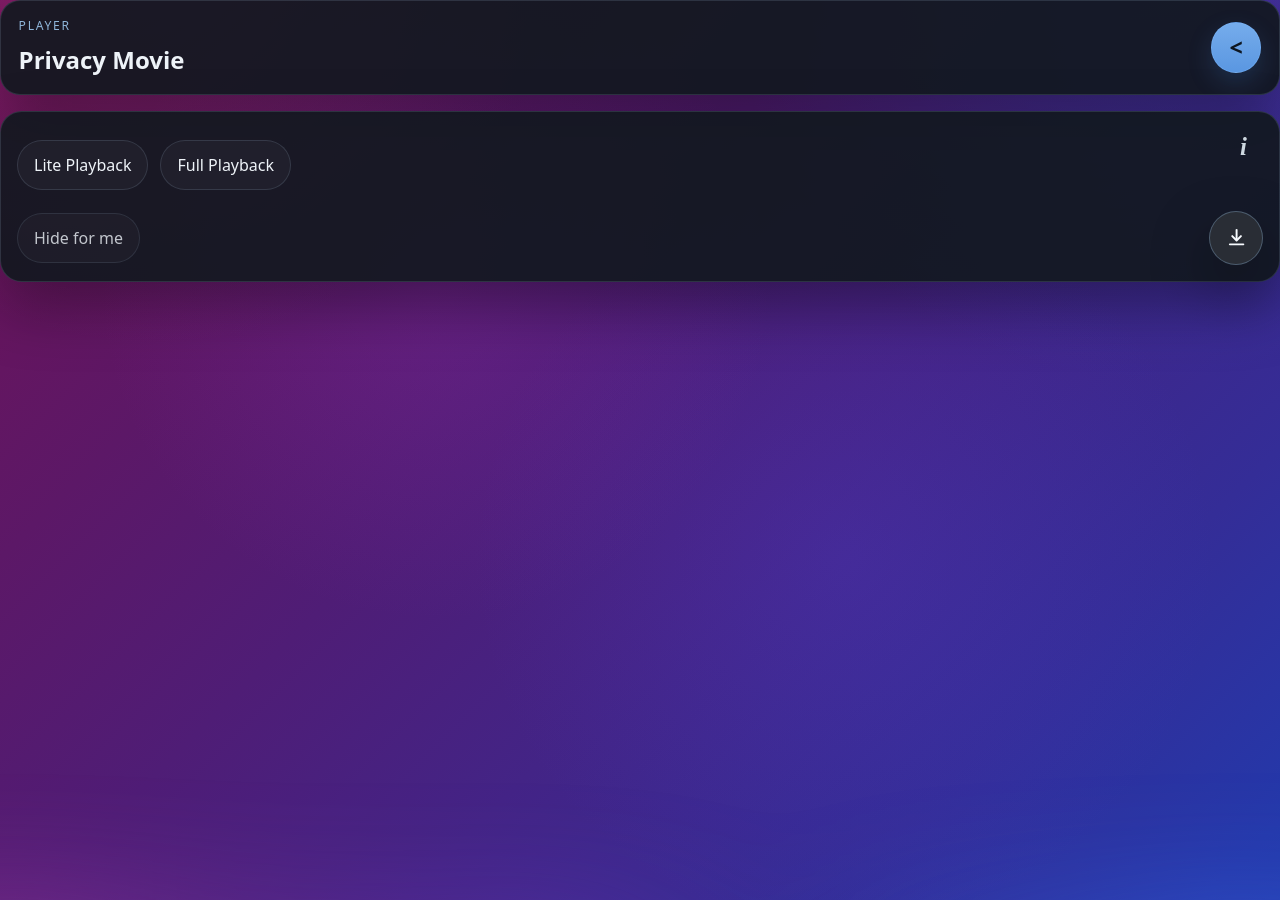
Test: DetailPage source metadata privacy › standard users see their private reference and a plain effective source label
(page scrolled)
Click the button named "Movie info" at (1243, 147), box [1221,125,1265,169]
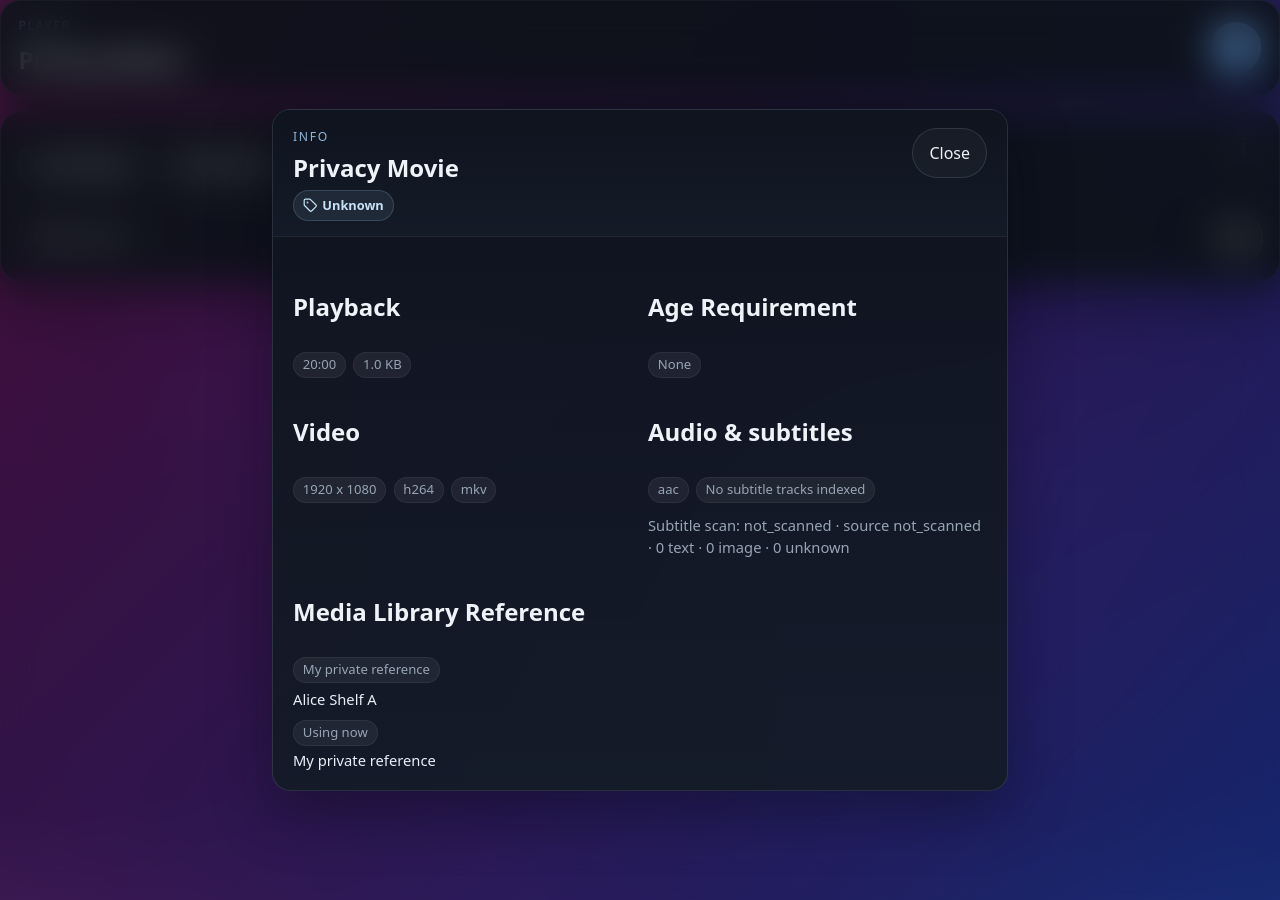
Now the dialog "Privacy Movie" is shown
Now the text "Alice Shelf A" is shown, box [293,688,377,708]
Now the text "My private reference" below "Using now" is shown, box [293,750,436,770]
